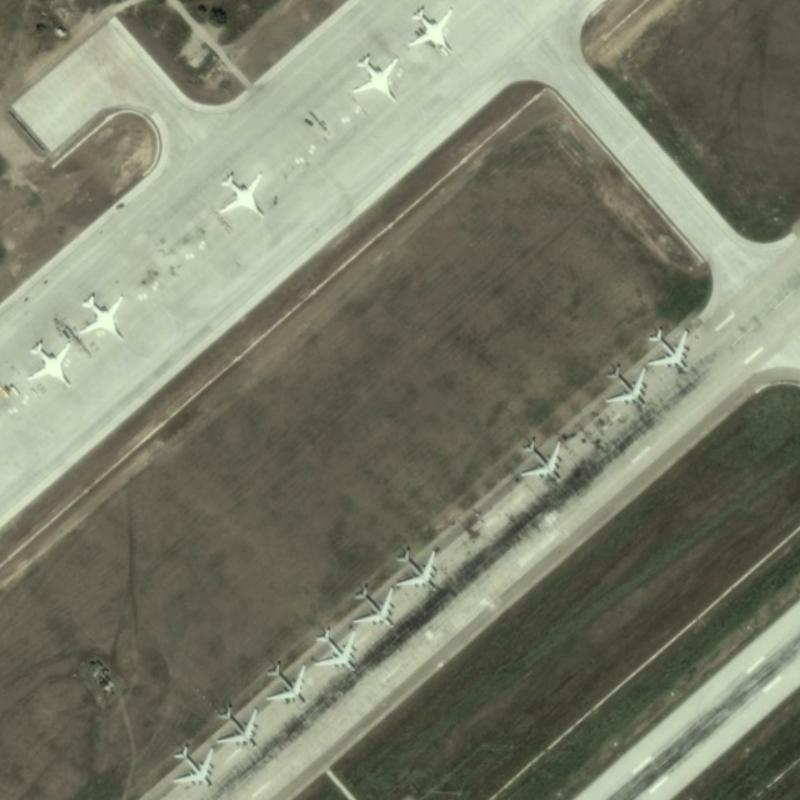A17: (310, 624, 362, 674), (392, 541, 441, 594), (213, 699, 261, 752), (348, 582, 398, 629), (517, 433, 564, 482), (169, 740, 218, 786), (262, 658, 309, 705), (603, 360, 649, 408), (645, 325, 691, 371)
A6: (347, 48, 403, 105), (73, 289, 128, 344), (402, 4, 457, 57), (22, 336, 75, 390), (213, 166, 265, 220)
